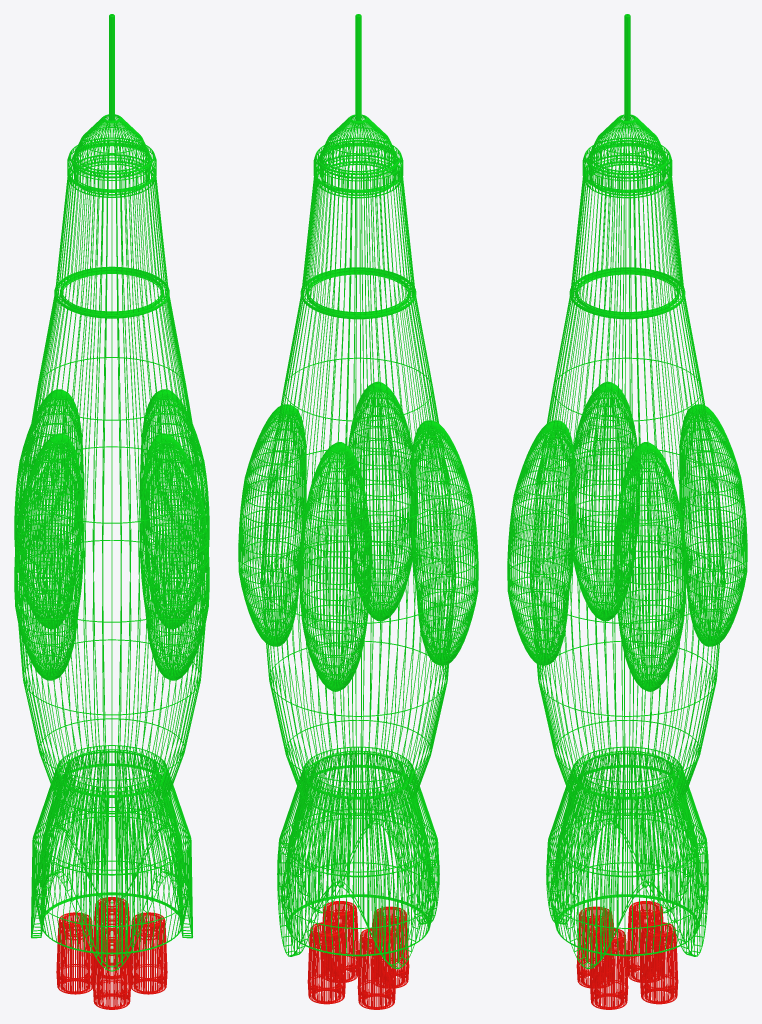
File: anti-virus-missile-highlight-four-main-rocket-thrusters.glb
3 views of the same model, side by side, from view 1: azimuth 30°, elevation 25°; view 2: azimuth 150°, elevation 25°; view 3: azimuth 270°, elevation 25° (orthographic).
Visible parts, largest first — view 1: chassis technical wire, anti-viral-payload-pods technical wire, nose-navigation-assembly technical wire, four-main-rocket-thrusters technical wire; view 2: chassis technical wire, anti-viral-payload-pods technical wire, nose-navigation-assembly technical wire, four-main-rocket-thrusters technical wire; view 3: chassis technical wire, anti-viral-payload-pods technical wire, nose-navigation-assembly technical wire, four-main-rocket-thrusters technical wire.
Part boxes in pixels (<box>): chassis technical wire: <box>16,273,207,971</box>; anti-viral-payload-pods technical wire: <box>14,389,209,680</box>; nose-navigation-assembly technical wire: <box>54,14,169,318</box>; four-main-rocket-thrusters technical wire: <box>56,897,167,1009</box>; chassis technical wire: <box>261,273,455,968</box>; anti-viral-payload-pods technical wire: <box>238,381,478,691</box>; nose-navigation-assembly technical wire: <box>300,14,416,319</box>; four-main-rocket-thrusters technical wire: <box>307,901,409,1009</box>; chassis technical wire: <box>530,273,724,968</box>; anti-viral-payload-pods technical wire: <box>507,381,747,691</box>; nose-navigation-assembly technical wire: <box>569,14,685,319</box>; four-main-rocket-thrusters technical wire: <box>576,901,678,1009</box>.
Size of the model in its own units: 1.36 by 6.07 by 1.36.
